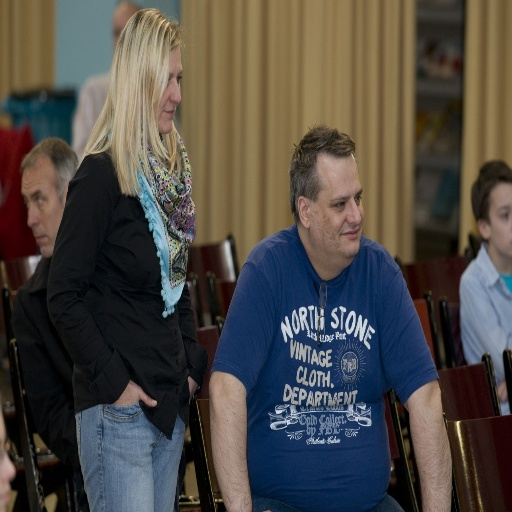hand: (113, 378, 157, 412), (495, 378, 507, 404), (187, 375, 197, 405)
